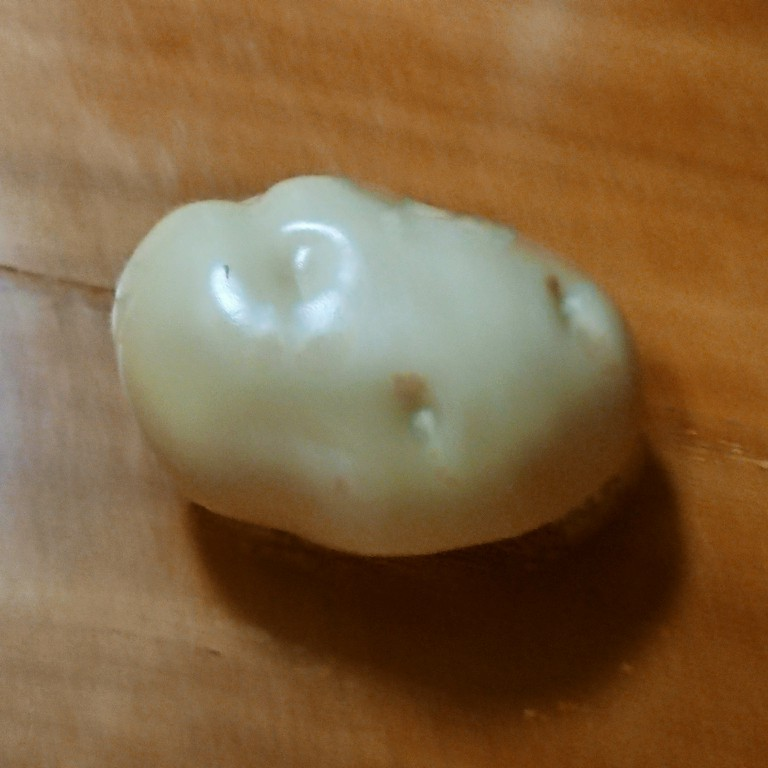fruit_potato: (104, 165, 657, 559)
